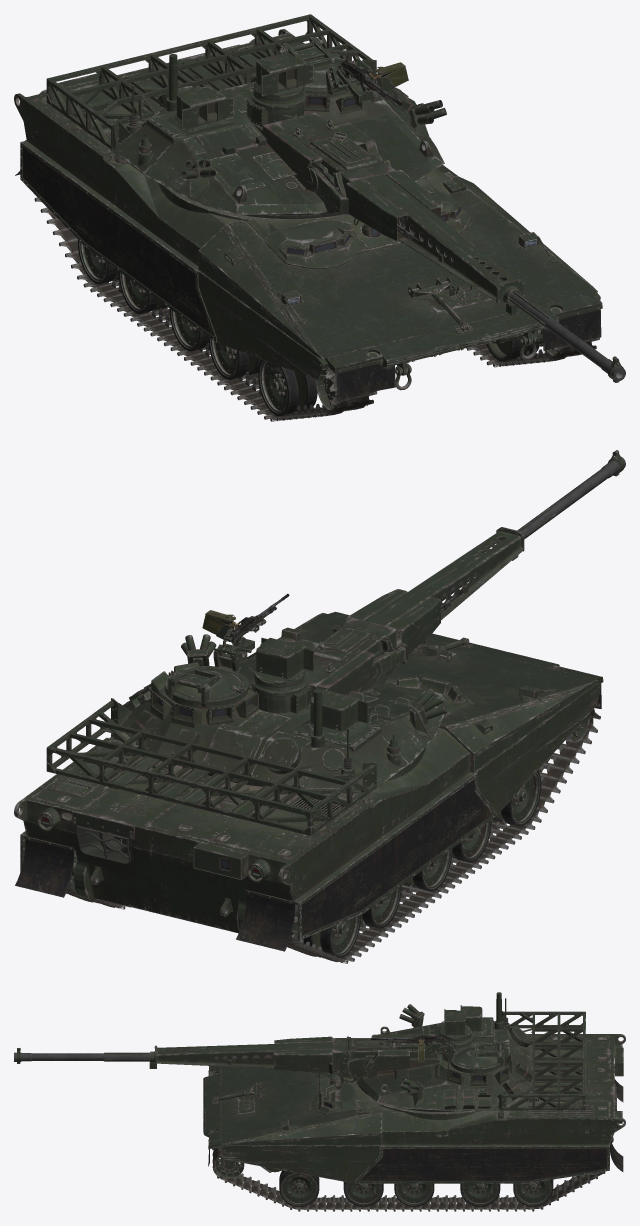
Rendered from HSTV-L.obj.
The picture shows the model from 3 angles, top to bottom: view 1: azimuth 30°, elevation 25°; view 2: azimuth 150°, elevation 25°; view 3: azimuth 270°, elevation 25°; orthographic projection. The views are drawn at different scales.
Visible parts, largest first — view 1: vehicle#x_root_56, vehicle#bone_turret_0, vehicle#gun_mask_5, vehicle#ex_decor_02_1, vehicle#ex_armor_r_02_21, vehicle#track_r_53, vehicle#ex_armor_r_01_22, vehicle#hatch_02_44, vehicle#wheel_r_01_60, vehicle#optic_commander_10, vehicle#gun_barrel_7, vehicle#bone_turret_02_11 (+13 smaller); view 2: vehicle#x_root_56, vehicle#bone_turret_0, vehicle#ex_decor_02_1, vehicle#ex_armor_r_02_21, vehicle#gun_mask_5, vehicle#track_r_53, vehicle#ex_armor_r_01_22, vehicle#bone_turret_02_11, vehicle#ex_decor_r_03_25, vehicle#ex_decor_l_03_24, vehicle#optic_commander_10, vehicle#gun_barrel_7 (+8 smaller); view 3: vehicle#x_root_56, vehicle#bone_turret_0, vehicle#ex_armor_l_02_20, vehicle#gun_mask_5, vehicle#ex_decor_02_1, vehicle#ex_armor_l_01_23, vehicle#track_l_54, vehicle#gun_barrel_7, vehicle#wheel_l_01_58, vehicle#hatch_01_43, vehicle#bone_turret_02_11, vehicle#hatch_03_12 (+8 smaller).
Boxes of the visible parts, <box> form: vehicle#x_root_56: <box>14,29,602,375</box>; vehicle#bone_turret_0: <box>112,53,446,218</box>; vehicle#gun_mask_5: <box>274,112,524,315</box>; vehicle#ex_decor_02_1: <box>46,14,376,151</box>; vehicle#ex_armor_r_02_21: <box>20,141,216,342</box>; vehicle#track_r_53: <box>34,197,377,421</box>; vehicle#ex_armor_r_01_22: <box>198,271,327,379</box>; vehicle#hatch_02_44: <box>264,220,367,269</box>; vehicle#wheel_r_01_60: <box>258,359,317,416</box>; vehicle#optic_commander_10: <box>254,53,313,98</box>; vehicle#gun_barrel_7: <box>400,217,625,382</box>; vehicle#bone_turret_02_11: <box>278,37,408,102</box>; vehicle#x_root_56: <box>14,611,602,933</box>; vehicle#bone_turret_0: <box>113,634,447,788</box>; vehicle#ex_decor_02_1: <box>46,698,376,835</box>; vehicle#ex_armor_r_02_21: <box>297,773,496,940</box>; vehicle#gun_mask_5: <box>304,527,524,696</box>; vehicle#track_r_53: <box>287,703,600,963</box>; vehicle#ex_armor_r_01_22: <box>475,682,601,815</box>; vehicle#bone_turret_02_11: <box>164,610,254,707</box>; vehicle#ex_decor_r_03_25: <box>236,890,295,951</box>; vehicle#ex_decor_l_03_24: <box>15,836,74,897</box>; vehicle#optic_commander_10: <box>254,637,313,685</box>; vehicle#gun_barrel_7: <box>396,450,625,632</box>; vehicle#x_root_56: <box>203,1034,625,1172</box>; vehicle#bone_turret_0: <box>348,992,532,1111</box>; vehicle#ex_armor_l_02_20: <box>355,1144,609,1183</box>; vehicle#gun_mask_5: <box>149,1034,435,1078</box>; vehicle#ex_decor_02_1: <box>500,1011,585,1111</box>; vehicle#ex_armor_l_01_23: <box>218,1145,379,1183</box>; vehicle#track_l_54: <box>212,1148,605,1211</box>; vehicle#gun_barrel_7: <box>14,1048,271,1063</box>; vehicle#wheel_l_01_58: <box>279,1170,319,1206</box>; vehicle#hatch_01_43: <box>311,1082,356,1114</box>; vehicle#bone_turret_02_11: <box>418,1041,503,1072</box>; vehicle#hatch_03_12: <box>454,1041,504,1067</box>.
Size of the model in its own units: 2.93 by 2.37 by 8.53.
Materials: 14 (13 with a texture image).
